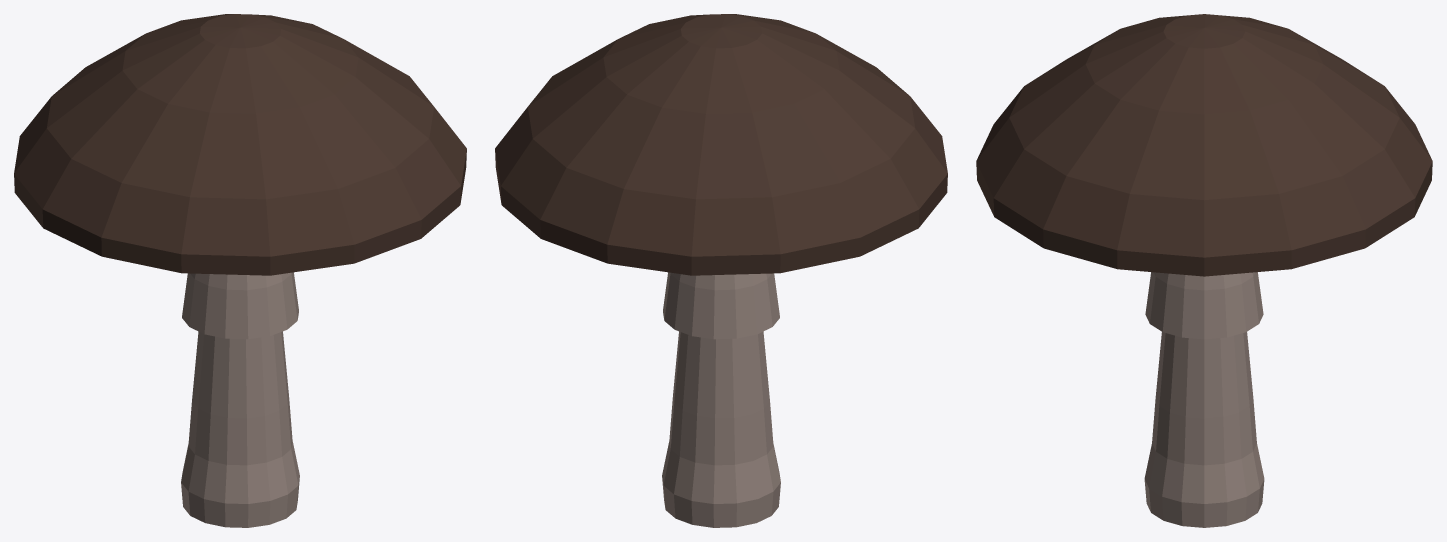
Rendered from SK_Mushroom_04.fbx.
3 views of the same model, side by side, from view 1: azimuth 30°, elevation 25°; view 2: azimuth 150°, elevation 25°; view 3: azimuth 270°, elevation 25° (orthographic).
Visible parts, largest first — view 1: Mushroom 04; view 2: Mushroom 04; view 3: Mushroom 04.
Boxes of the visible parts, box(x1,y1,x2,y2) form: Mushroom 04: box(14, 14, 466, 527); Mushroom 04: box(495, 14, 947, 527); Mushroom 04: box(976, 14, 1432, 527).
Size of the model in its own units: 269 by 309 by 269.
